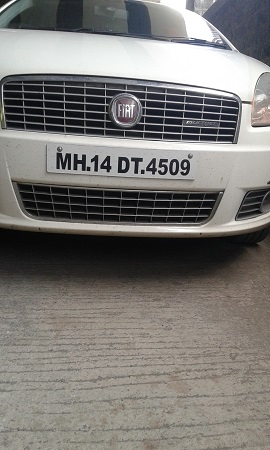licenseplate: (43, 142, 198, 182)
